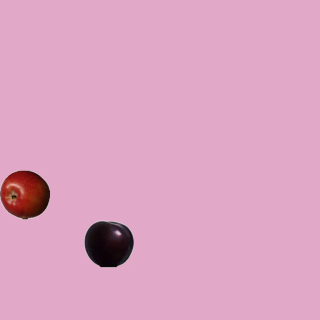Apple Braeburn: (0, 169, 49, 219)
Cherry Wax Black: (83, 218, 133, 268)
